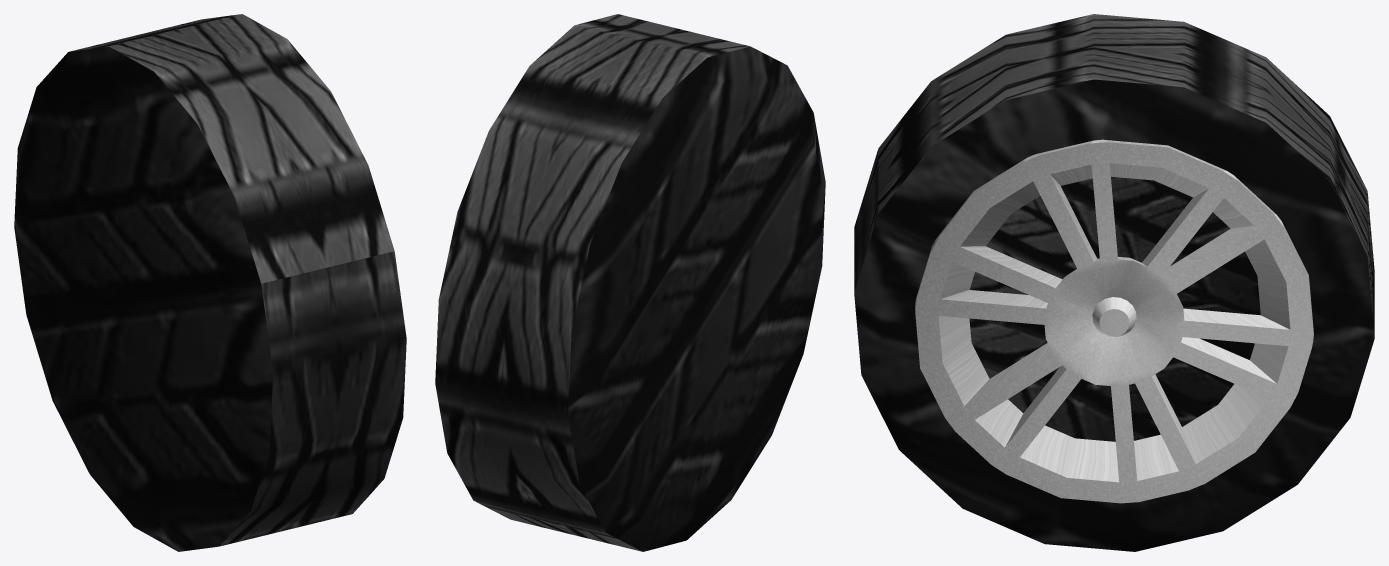
File: llanta_izquierda.obj
The picture shows the model from 3 angles, left to right: view 1: azimuth 30°, elevation 25°; view 2: azimuth 150°, elevation 25°; view 3: azimuth 270°, elevation 25°; orthographic projection.
Parts seen in each view (by area): view 1: FR_Wheel.001_Plastic.005; view 2: FR_Wheel.001_Plastic.005; view 3: FR_Wheel.001_Plastic.005, FR_Wheel_Rims.005, FR_Wheel_Plastic.005, FR_Wheel.001_Rims.005.
Part boxes in pixels (box(x1,y1,x2,y2)): FR_Wheel.001_Plastic.005: box(14, 14, 406, 551); FR_Wheel.001_Plastic.005: box(435, 14, 825, 551); FR_Wheel.001_Plastic.005: box(854, 14, 1374, 551); FR_Wheel_Rims.005: box(915, 139, 1313, 503); FR_Wheel_Plastic.005: box(969, 176, 1260, 441); FR_Wheel.001_Rims.005: box(916, 139, 1313, 332).
Bounding box in the file's own units: 0.2095 × 0.5951 × 0.5942.
2 materials, 2 textured.
